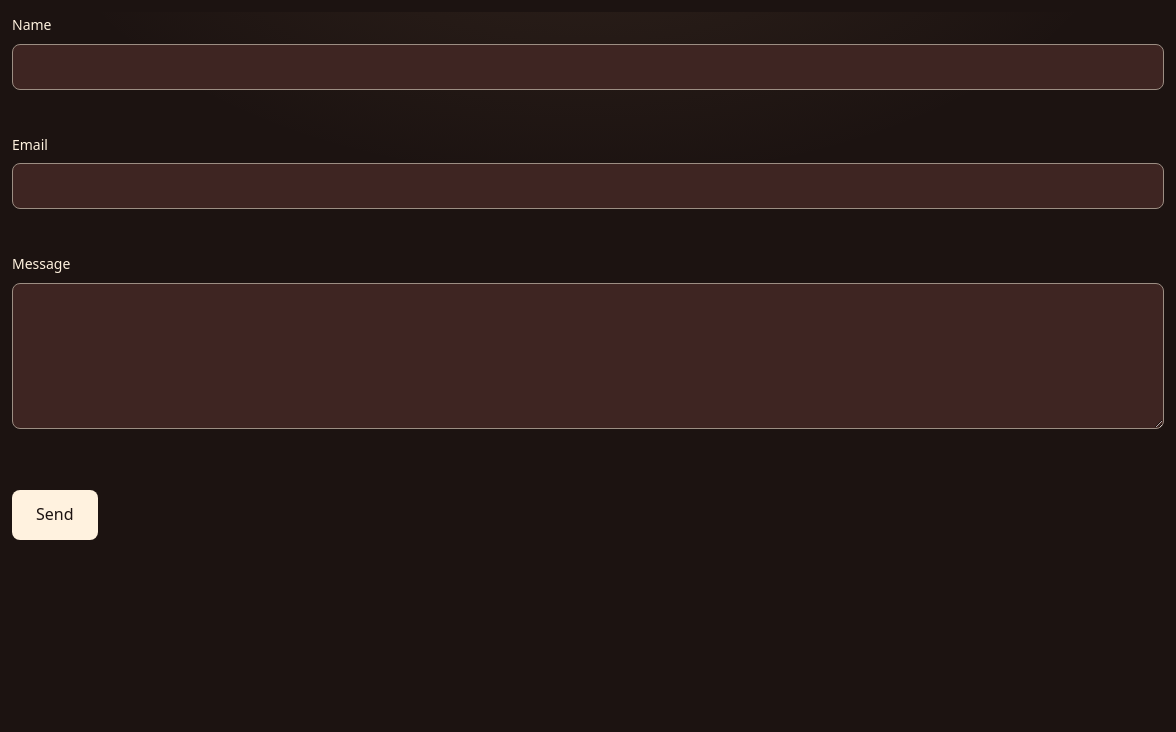
it: ContactForm › sends a valid message and reports success without moving focus
The width and height of the screenshot is (1176, 732).
Type "Zeyad" into the field labelled "Name" at (588, 67), box [12, 44, 1164, 90]
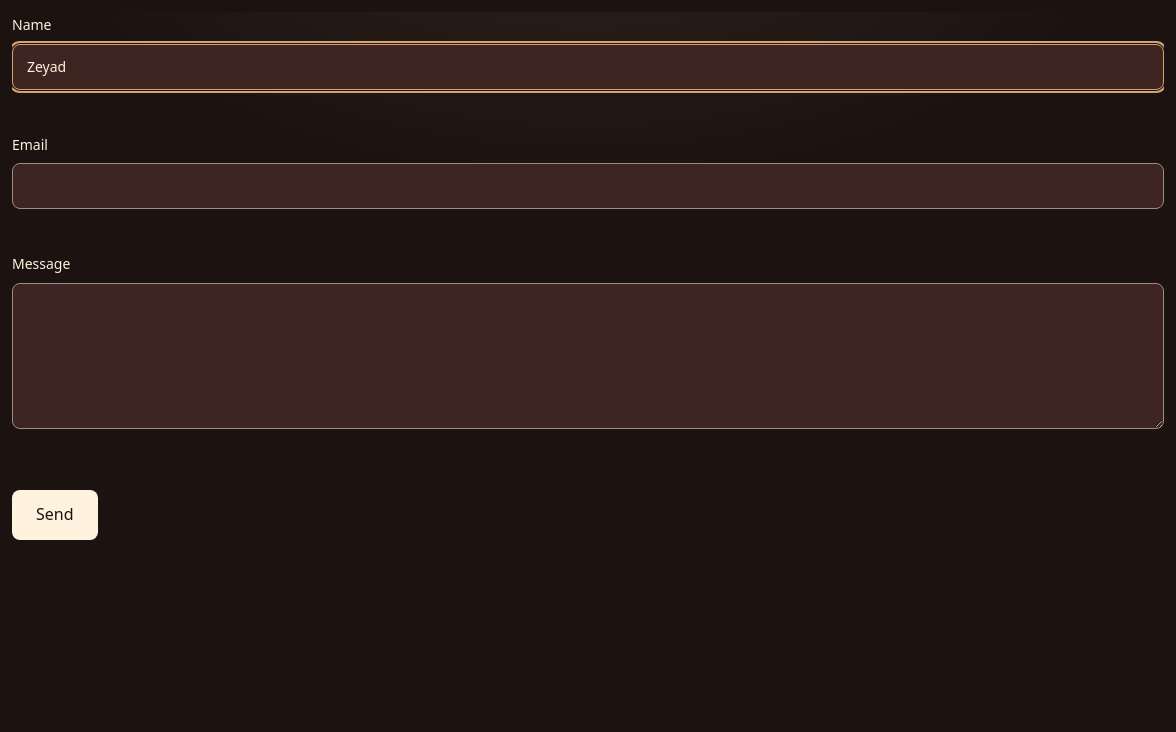
Type "a@b.co" into the field labelled "Email" at (588, 186), box [12, 163, 1164, 209]
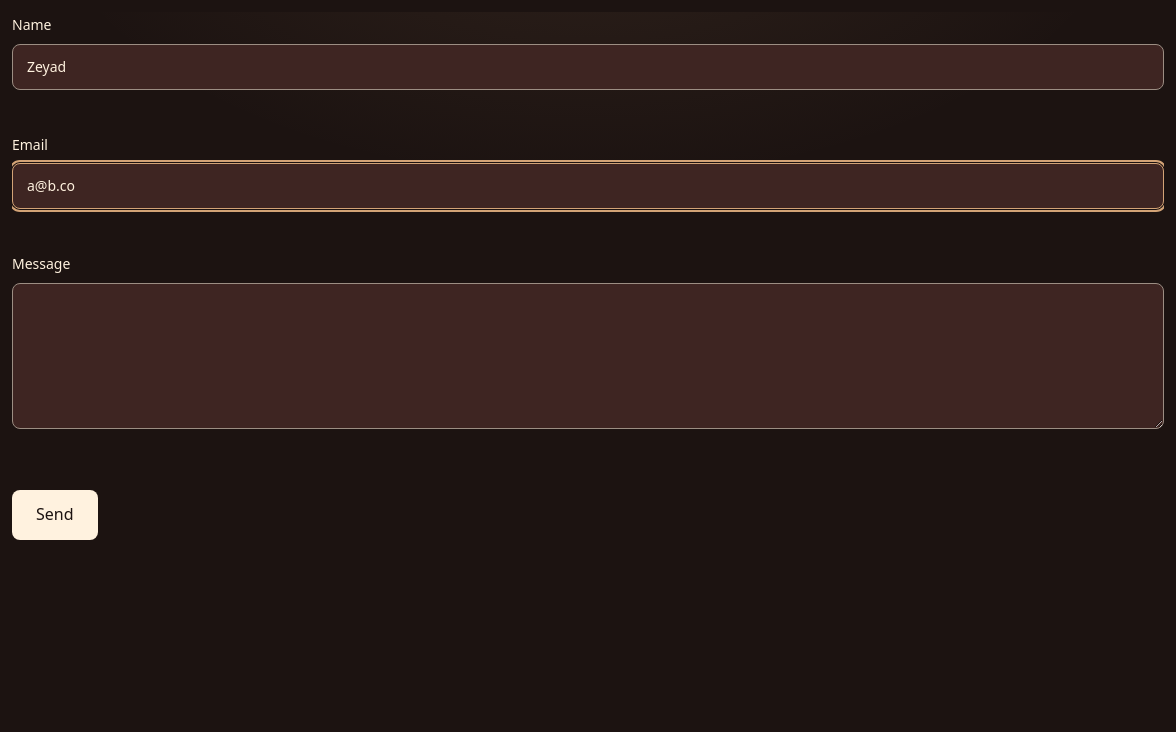
Type "Hello there" into the text box labelled "Message" at (588, 356), box [12, 283, 1164, 429]
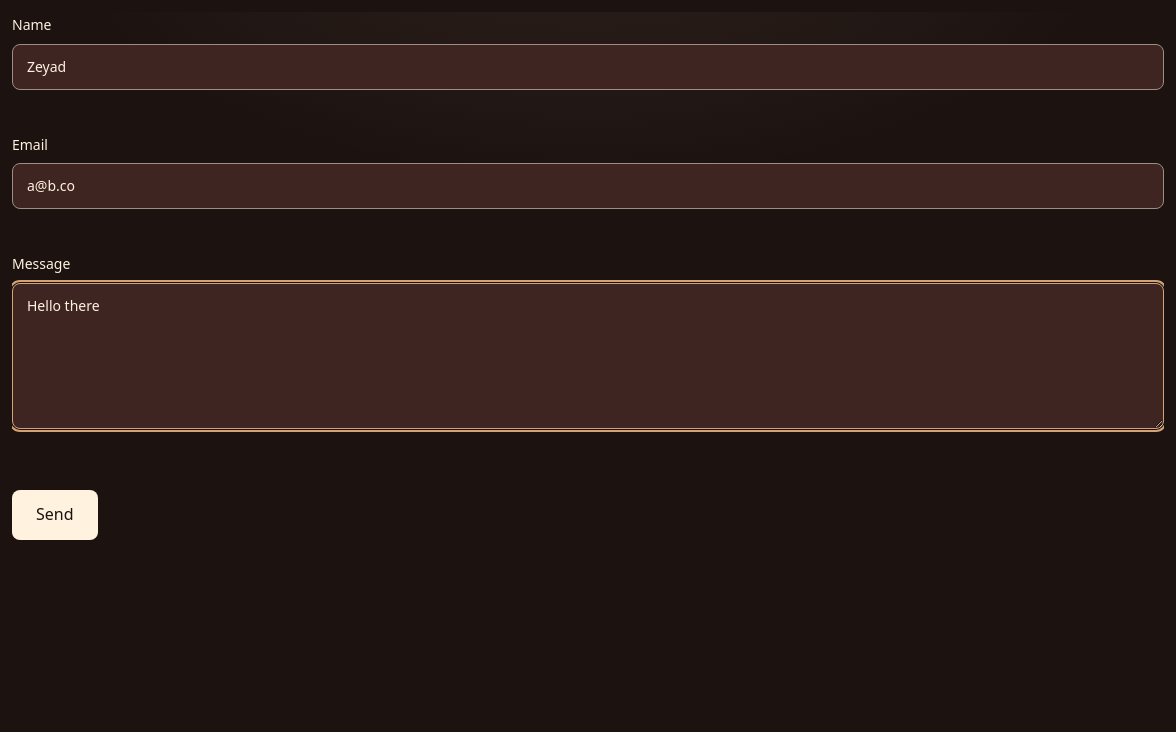
Click the button "Send" at (55, 515), box [12, 490, 98, 540]
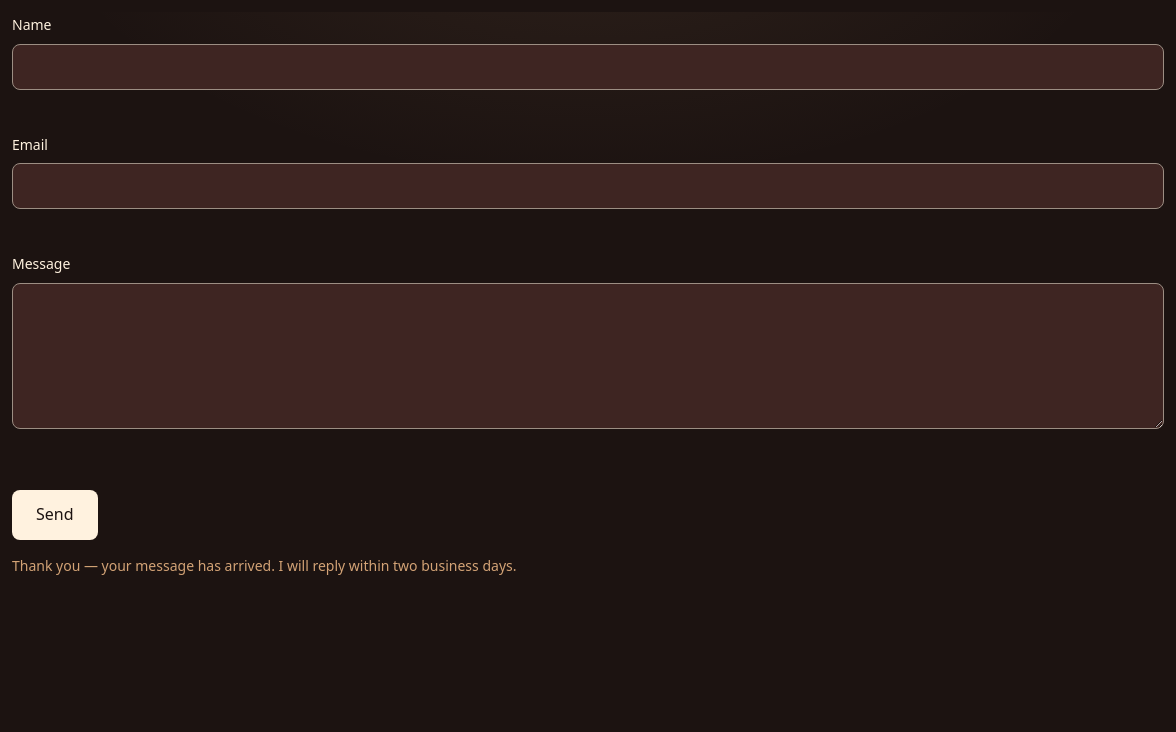
Check: the message shows "your message has arrived", box [12, 556, 516, 575]
